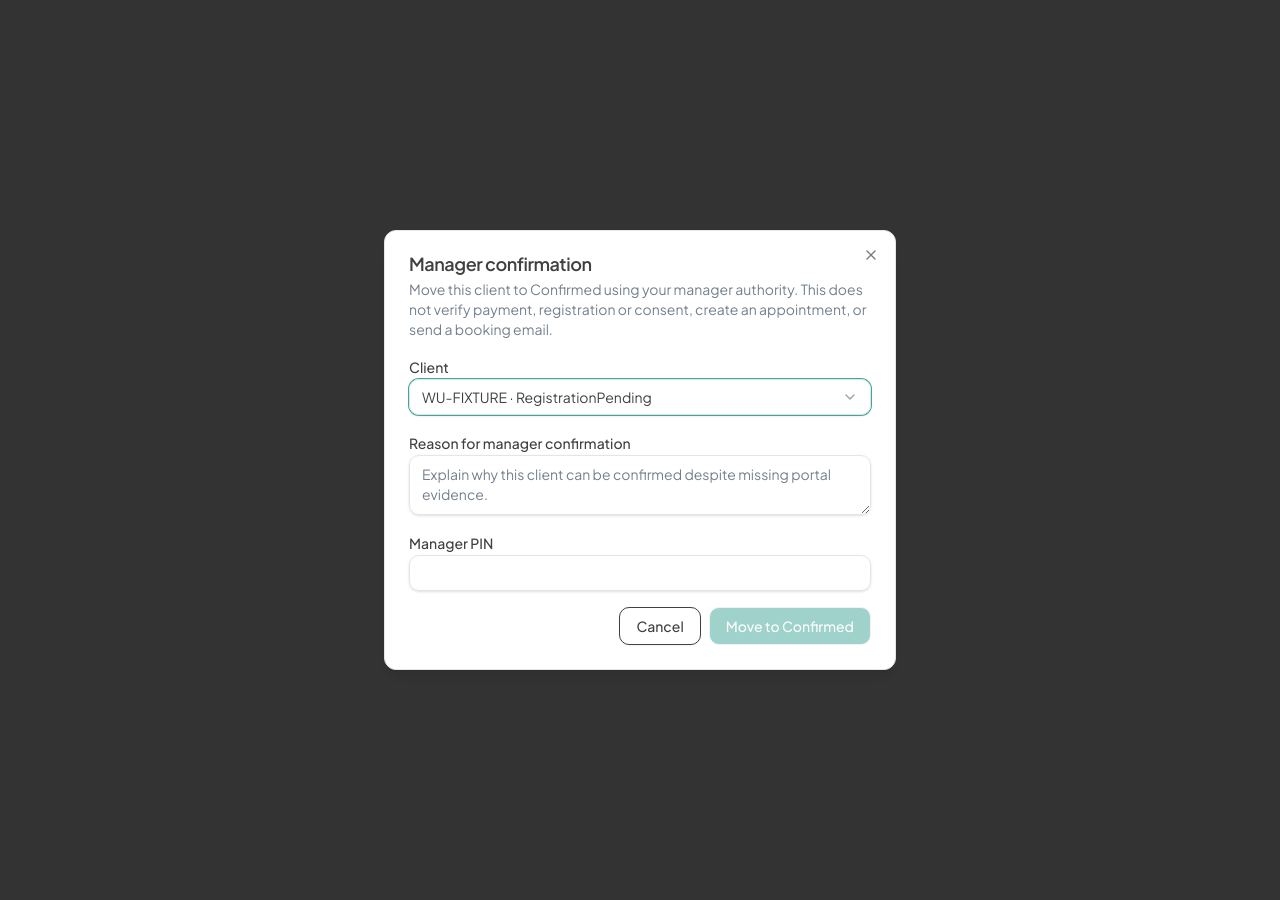
Test: manager confirmation dialog › keeps a failed confirmation open, clears the PIN and preserves the reason
In the password field labelled "Manager PIN": (640, 573) [409, 555, 871, 591], type "000000"
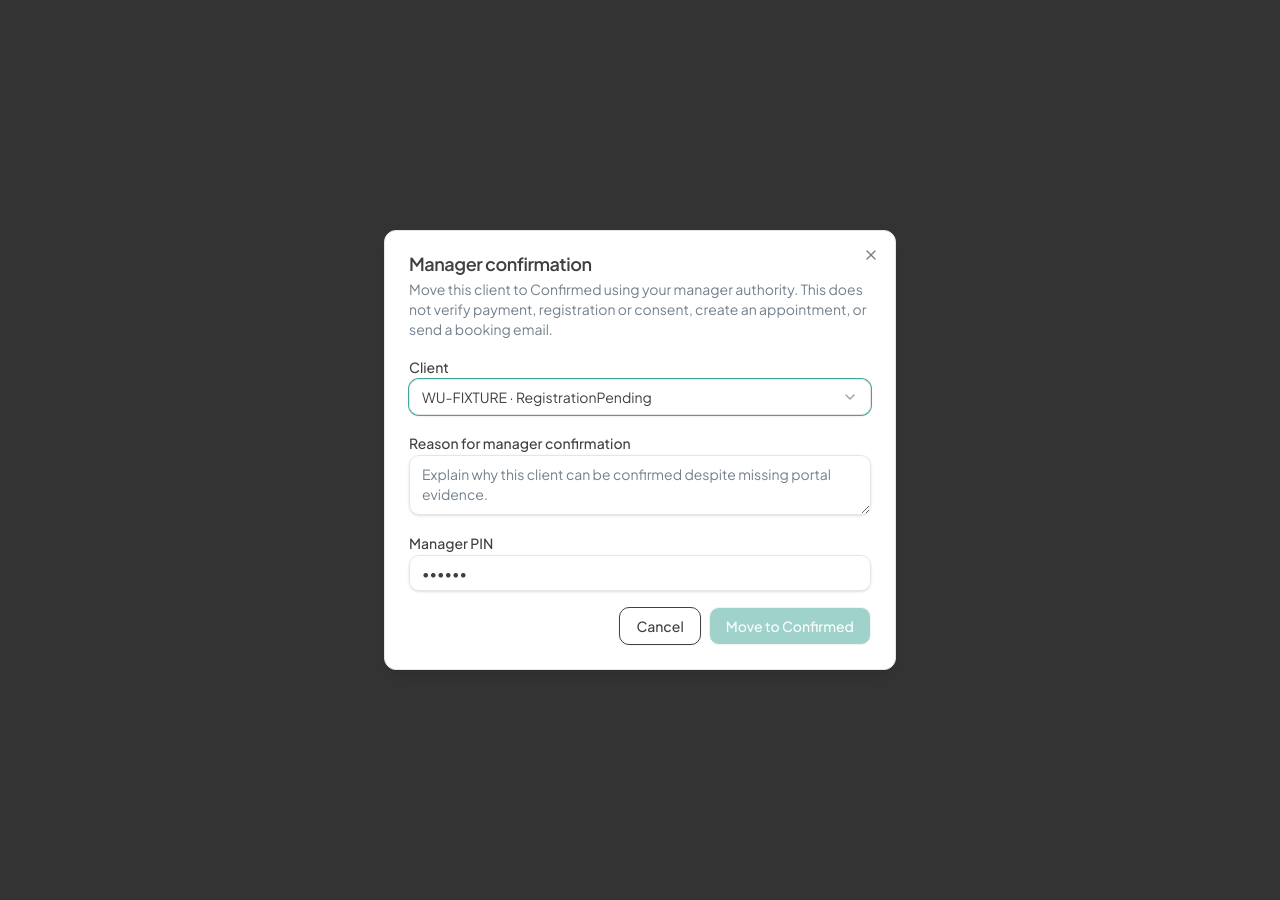
Replace the text in the text box labelled "Reason for manager confirmation" with "Confirmed in practice records.": (640, 485) [409, 455, 871, 515]
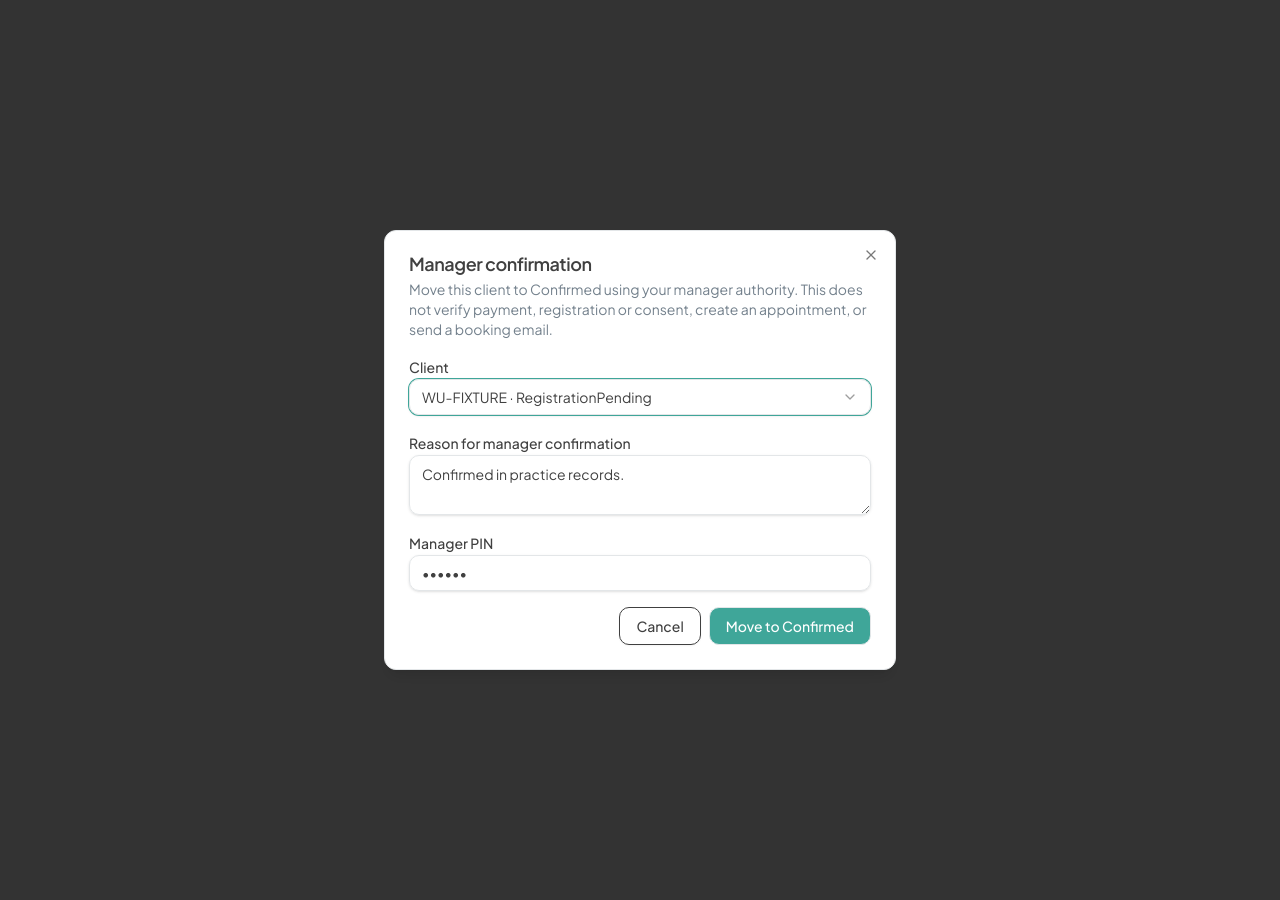
Click the button "Move to Confirmed": (790, 626) [709, 607, 871, 645]
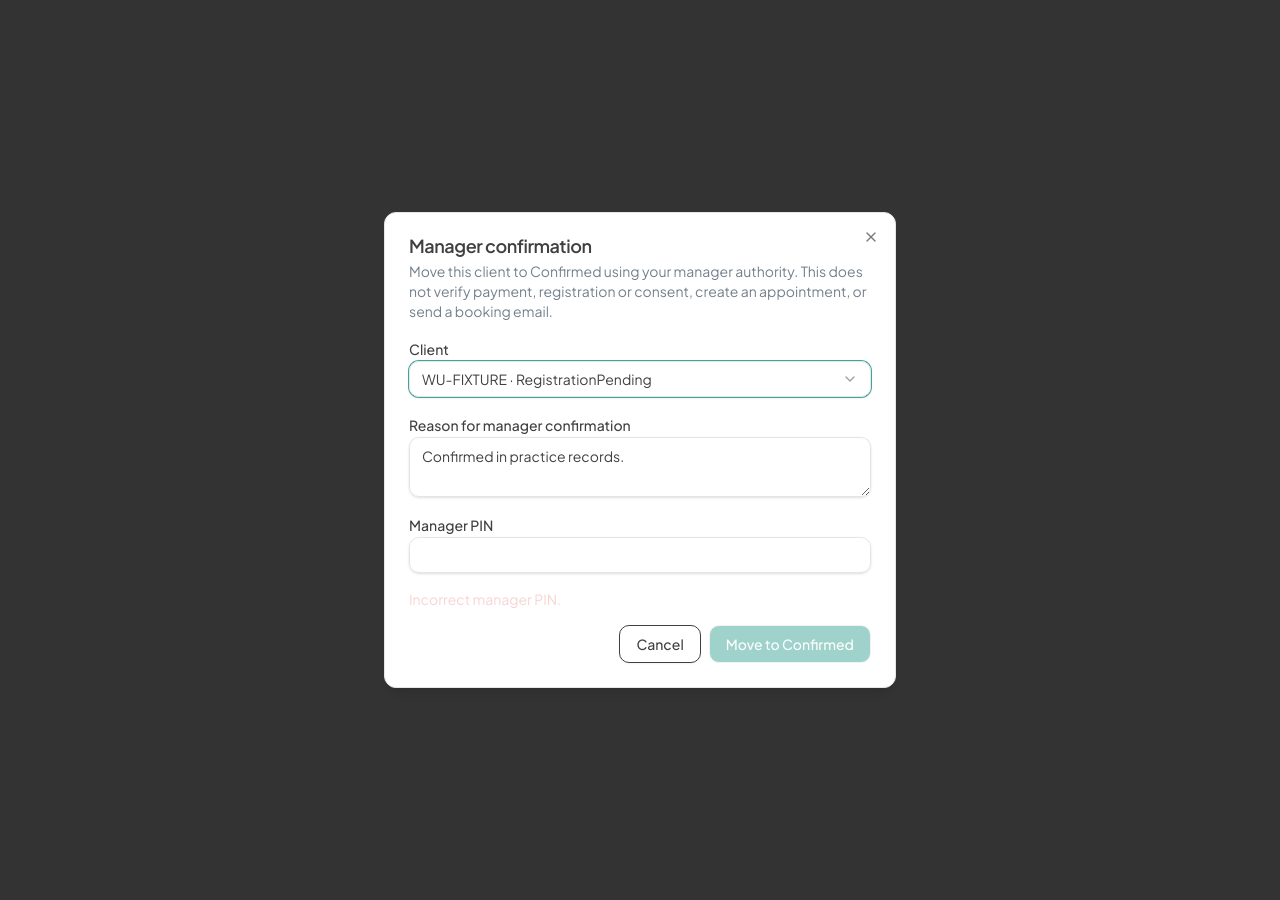
Expected: the message reads "Incorrect manager PIN.", [409, 590, 561, 608]
Expected: the password field labelled "Manager PIN" is empty, [409, 537, 871, 573]
